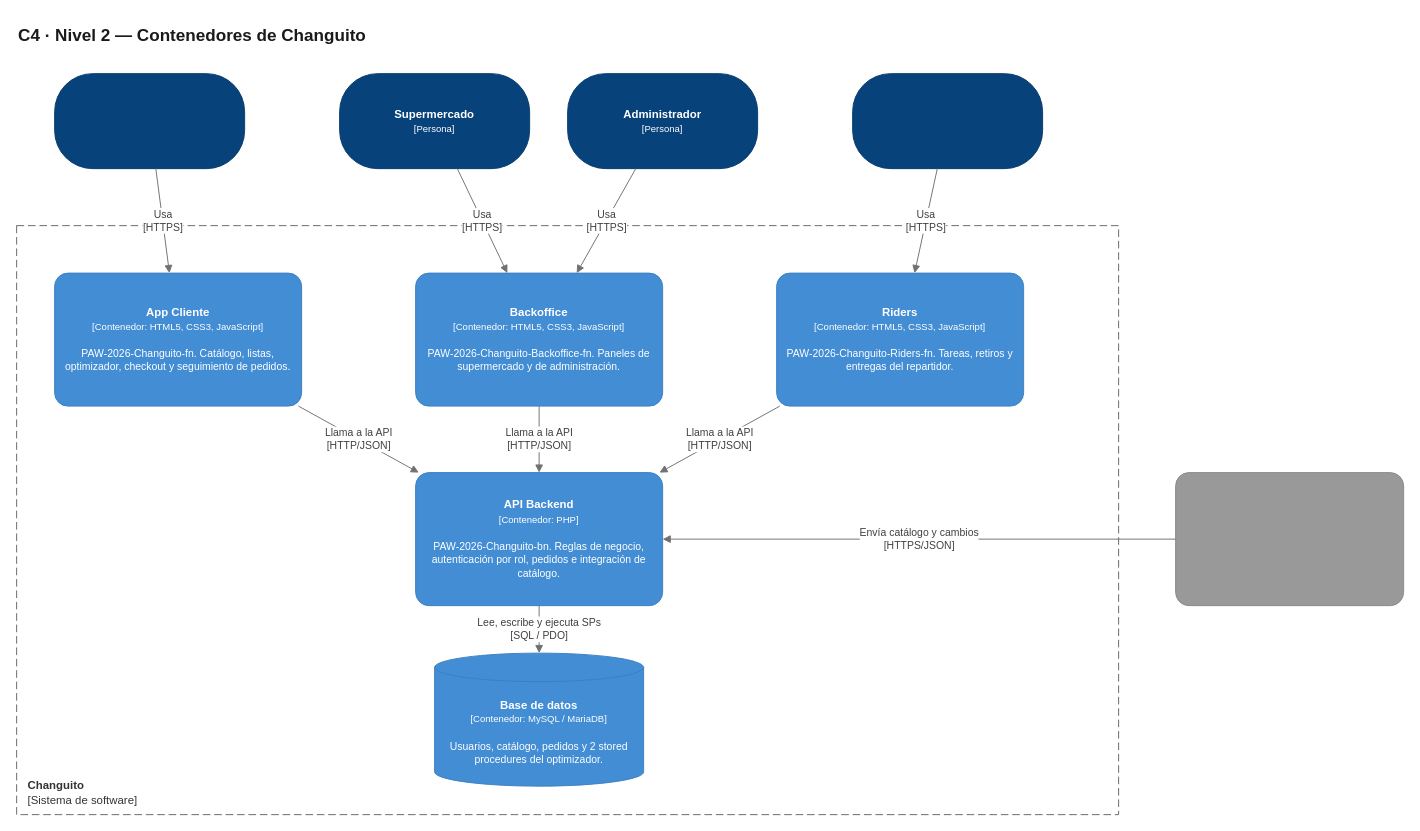
The diagram is 1420 pixels wide and 831 high, and some of its shapes have lost their labels. Each missing label, with the centre of its shape:
"Cliente [Persona]" goes at point (149, 121).
"ERP del supermercado [Sistema externo] Modalidad 3." goes at point (1289, 539).
"Repartidor [Persona]" goes at point (947, 121).
